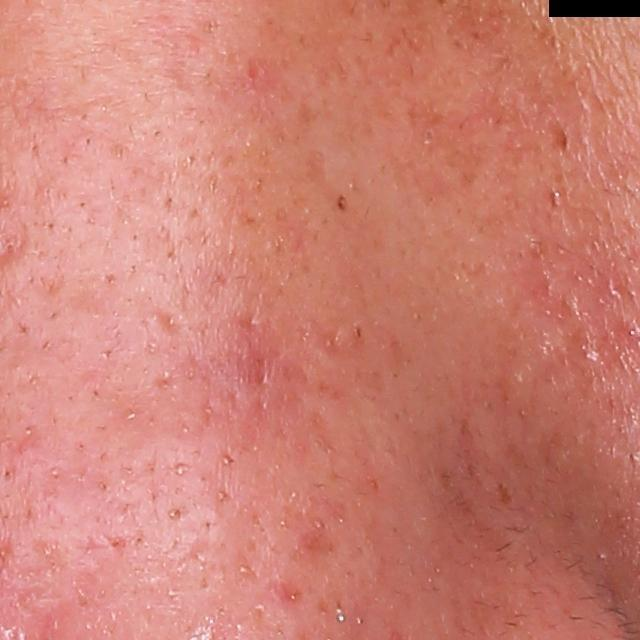comedo: (163, 503, 187, 524)
